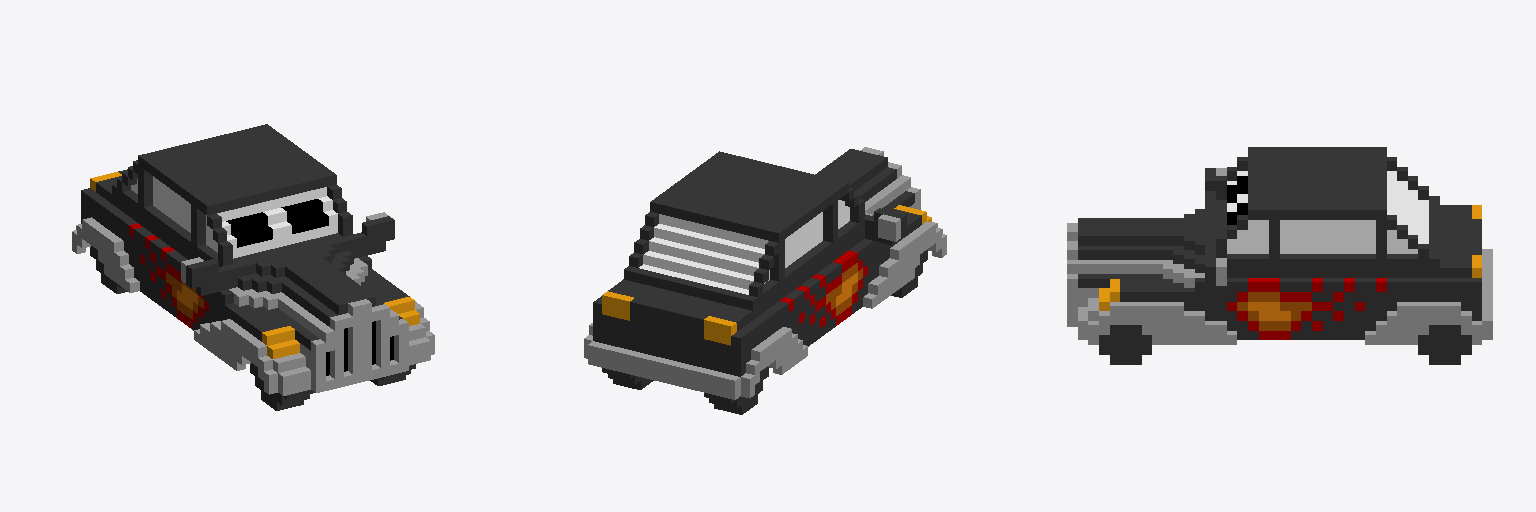
3 views of the same model, side by side, from view 1: azimuth 30°, elevation 25°; view 2: azimuth 150°, elevation 25°; view 3: azimuth 270°, elevation 25° (orthographic).
Parts seen in each view (by area): view 1: feriri; view 2: feriri; view 3: feriri.
Boxes of the visible parts, box(x1,y1,x2,y2) form: feriri: box(72, 124, 434, 410); feriri: box(584, 147, 946, 414); feriri: box(1067, 147, 1492, 364).
Size of the model in its own units: 22 by 16 by 40.
Materials: 1 (1 with a texture image).